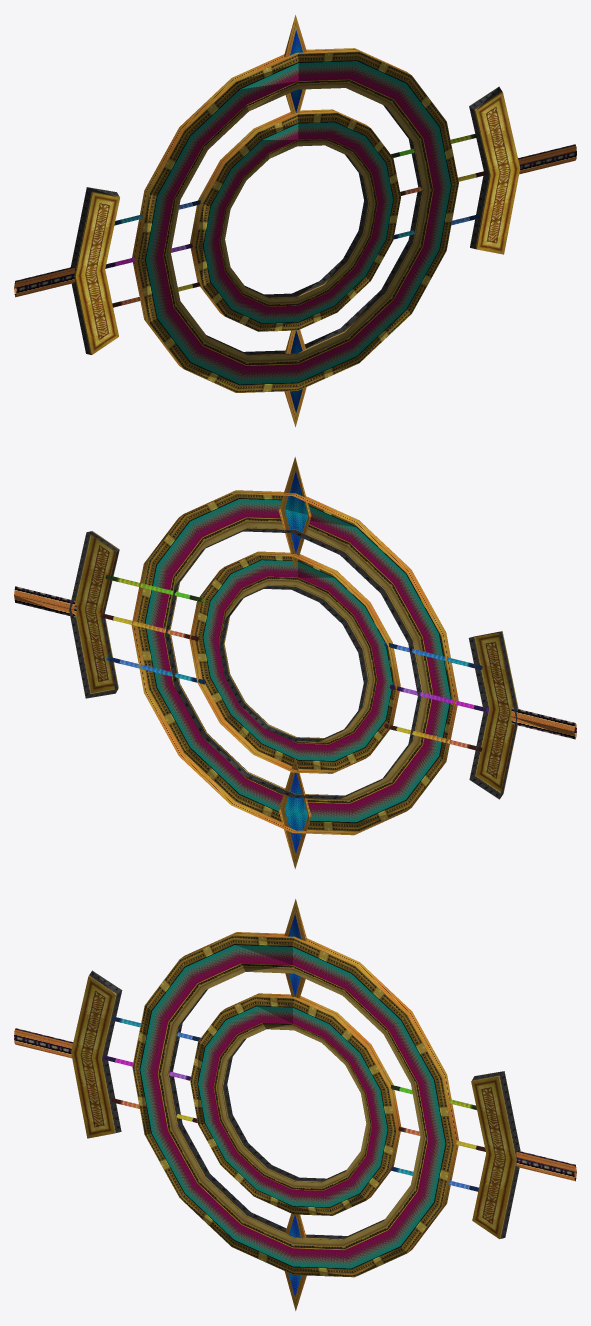
Rendered from stg110_MotWheel_12.obj.
3 renders of one model, top to bottom at view 1: azimuth 30°, elevation 25°; view 2: azimuth 150°, elevation 25°; view 3: azimuth 330°, elevation 25°, orthographic.
Parts seen in each view (by area): view 1: polygon2, polygon1, polygon0, polygon5, polygon4, polygon3; view 2: polygon2, polygon1, polygon0, polygon4, polygon5, polygon3; view 3: polygon2, polygon1, polygon0, polygon5, polygon4, polygon3.
Boxes of the visible parts, box(x1,y1,x2,y2) form: polygon2: box(71, 51, 502, 392); polygon1: box(146, 61, 450, 384); polygon0: box(75, 15, 520, 426); polygon5: box(14, 144, 576, 297); polygon4: box(105, 133, 487, 307); polygon3: box(290, 30, 303, 412); polygon2: box(69, 494, 518, 831); polygon1: box(145, 499, 450, 822); polygon0: box(76, 457, 514, 868); polygon4: box(99, 575, 489, 751); polygon5: box(14, 586, 576, 739); polygon3: box(285, 471, 307, 854); polygon2: box(88, 935, 520, 1277); polygon1: box(140, 945, 445, 1268); polygon0: box(71, 899, 515, 1310); polygon5: box(14, 1028, 576, 1181); polygon4: box(103, 1016, 485, 1191); polygon3: box(288, 913, 301, 1296).
Size of the model in its own units: 718 by 506 by 14.59.
